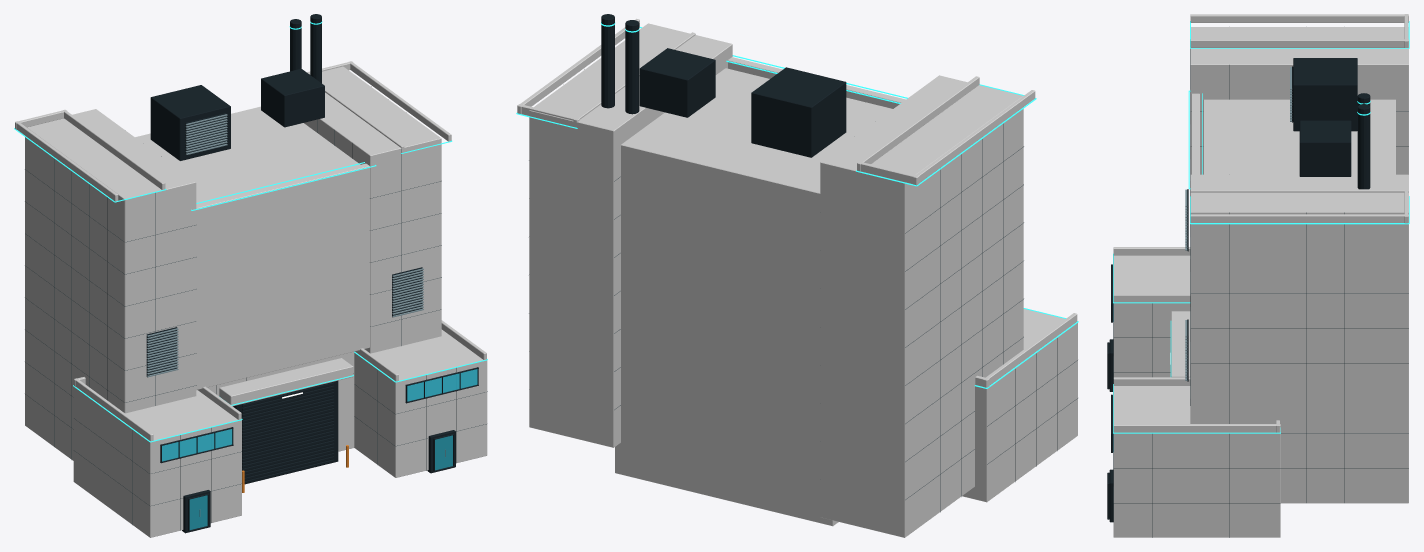
Rendered from building_04.glb.
The picture shows the model from 3 angles, left to right: view 1: azimuth 30°, elevation 25°; view 2: azimuth 150°, elevation 25°; view 3: azimuth 270°, elevation 25°; orthographic projection. The views are drawn at different scales.
Visible parts, largest first — view 1: Service towers.001, Facade monolith.001, Lower service wings.001, Central plant mass.001, Roller shutter strips.001, Parapets.005, Vent louvers.006, Large HVAC.001, Facade panel seams.008, Window glazing.008, Crated roof machinery.001, Loading bay hood.001 (+7 smaller); view 2: Service towers.001, Central plant mass.001, Lower service wings.001, Plant ground rear, Large HVAC.001, Parapets.005, Crated roof machinery.001, Exhaust stacks.001, Facade panel seams.008, Cyan roof edges.008, Facade monolith.001; view 3: Service towers.001, Lower service wings.001, Parapets.005, Central plant mass.001, Large HVAC.001, Crated roof machinery.001, Facade panel seams.008, Cyan roof edges.008, Exhaust stacks.001, Loading bay hood.001, Facade monolith.001, Entrance recess.008 (+2 smaller).
Boxes of the visible parts, x1,y1,x2,y2 form: Service towers.001: (25,66,441,460); Facade monolith.001: (196,163,369,389); Lower service wings.001: (73,329,487,537); Central plant mass.001: (135,106,360,407); Roller shutter strips.001: (242,382,334,483); Parapets.005: (15,61,486,441); Vent louvers.006: (146,114,423,377); Large HVAC.001: (150,85,230,160); Facade panel seams.008: (25,86,487,530); Window glazing.008: (162,369,477,529); Crated roof machinery.001: (261,68,324,127); Loading bay hood.001: (219,358,353,406); Service towers.001: (529,23,1023,537); Central plant mass.001: (621,68,892,471); Lower service wings.001: (962,309,1077,502); Plant ground rear: (615,423,838,526); Large HVAC.001: (751,67,846,157); Parapets.005: (517,18,1077,387); Crated roof machinery.001: (639,48,715,117); Exhaust stacks.001: (601,14,639,114); Facade panel seams.008: (584,69,1077,512); Cyan roof edges.008: (516,27,1078,388); Facade monolith.001: (728,57,905,108); Service towers.001: (1190,27,1408,503); Lower service wings.001: (1113,255,1280,537); Parapets.005: (1113,14,1408,432); Central plant mass.001: (1203,99,1395,174); Large HVAC.001: (1293,58,1357,131); Crated roof machinery.001: (1299,120,1351,176); Facade panel seams.008: (1113,49,1408,537); Cyan roof edges.008: (1113,21,1409,433); Exhaust stacks.001: (1357,93,1370,189); Loading bay hood.001: (1171,311,1190,377); Facade monolith.001: (1191,93,1199,174); Entrance recess.008: (1109,339,1113,522).
Bounding box in the file's own units: 33.06 × 34.7 × 23.53.
